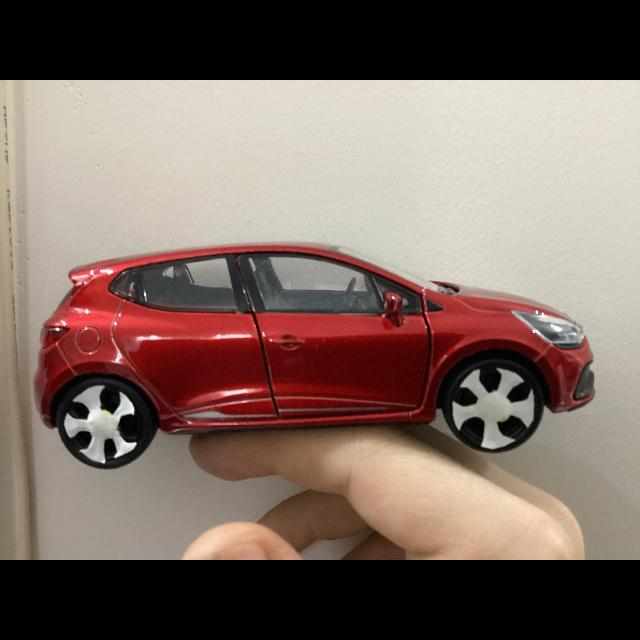Yanlis_Jant: (449, 365, 536, 451), (61, 384, 140, 466)
